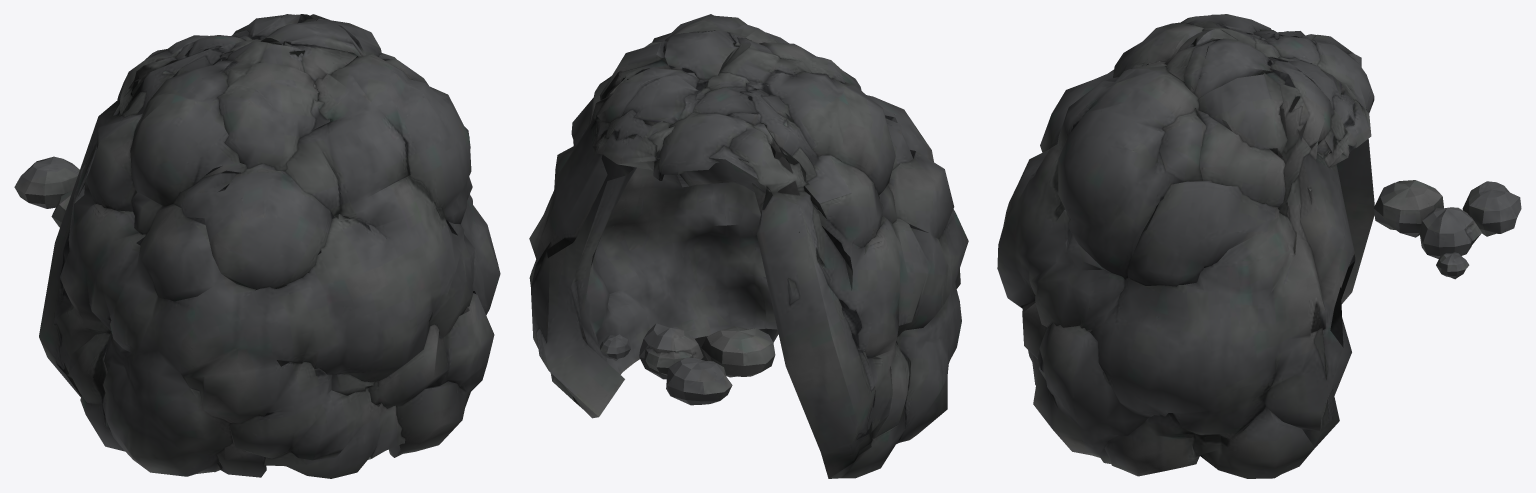
Rendered from miller_cave_shelter.glb.
3 renders of one model, left to right at view 1: azimuth 30°, elevation 25°; view 2: azimuth 150°, elevation 25°; view 3: azimuth 270°, elevation 25°, orthographic.
Visible parts, largest first — view 1: miller_cave_shelter_mesh; view 2: miller_cave_shelter_mesh; view 3: miller_cave_shelter_mesh.
Boxes of the visible parts, x1,y1,x2,y2 form: miller_cave_shelter_mesh: (14,14,500,478); miller_cave_shelter_mesh: (529,14,968,478); miller_cave_shelter_mesh: (997,14,1521,478).
Bounding box in the file's own units: 8.23 × 8.12 × 9.74.
1 material, 1 textured.
